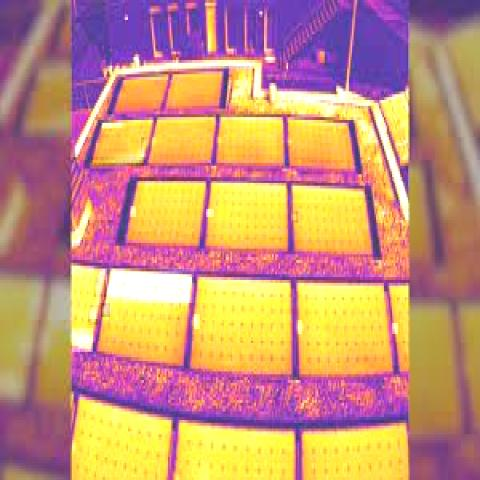fault: (106, 268, 194, 303), (72, 328, 93, 352), (91, 157, 144, 166), (94, 266, 106, 297), (88, 306, 99, 326), (101, 303, 110, 317), (141, 137, 147, 154), (102, 123, 122, 128), (194, 314, 200, 329), (292, 211, 298, 223), (392, 323, 398, 334), (130, 206, 136, 217), (206, 209, 214, 217), (298, 320, 302, 334), (147, 117, 152, 126)
